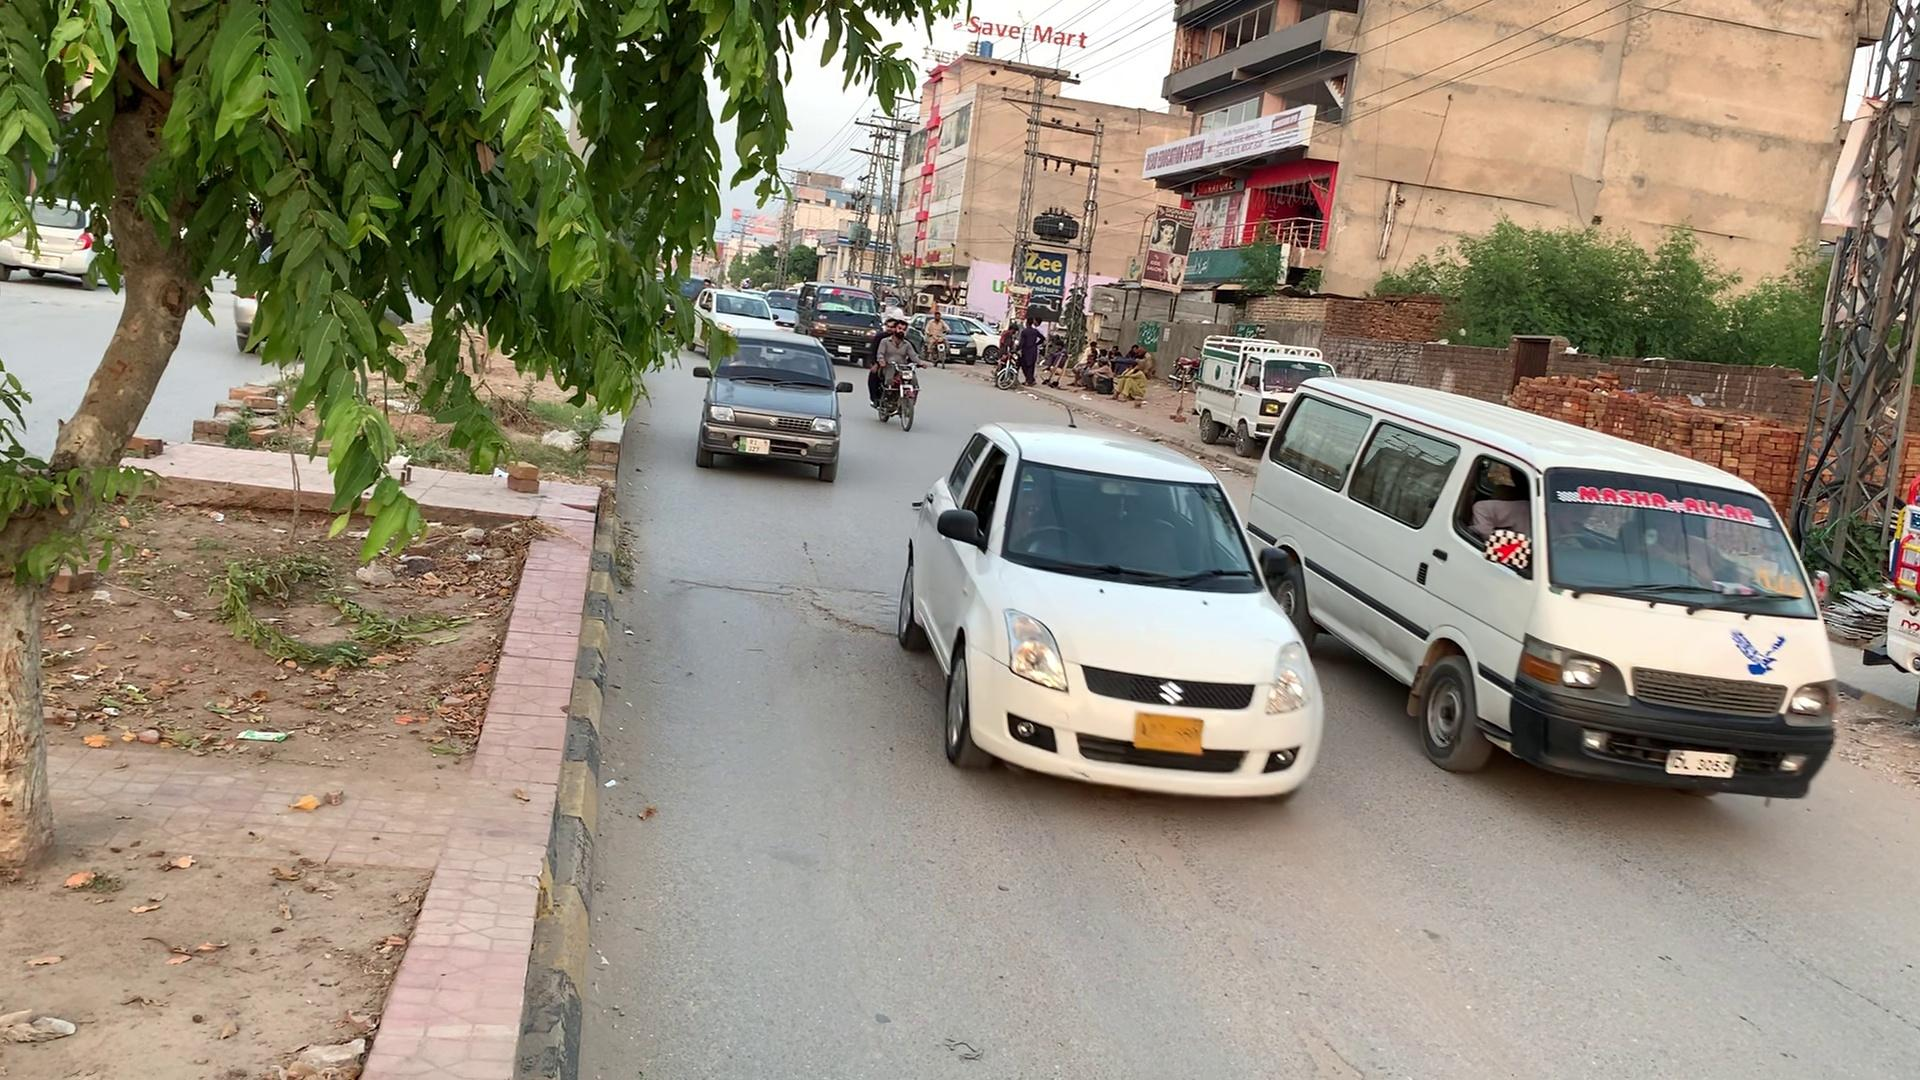windshield: (998, 443, 1270, 605), (716, 338, 833, 392)
